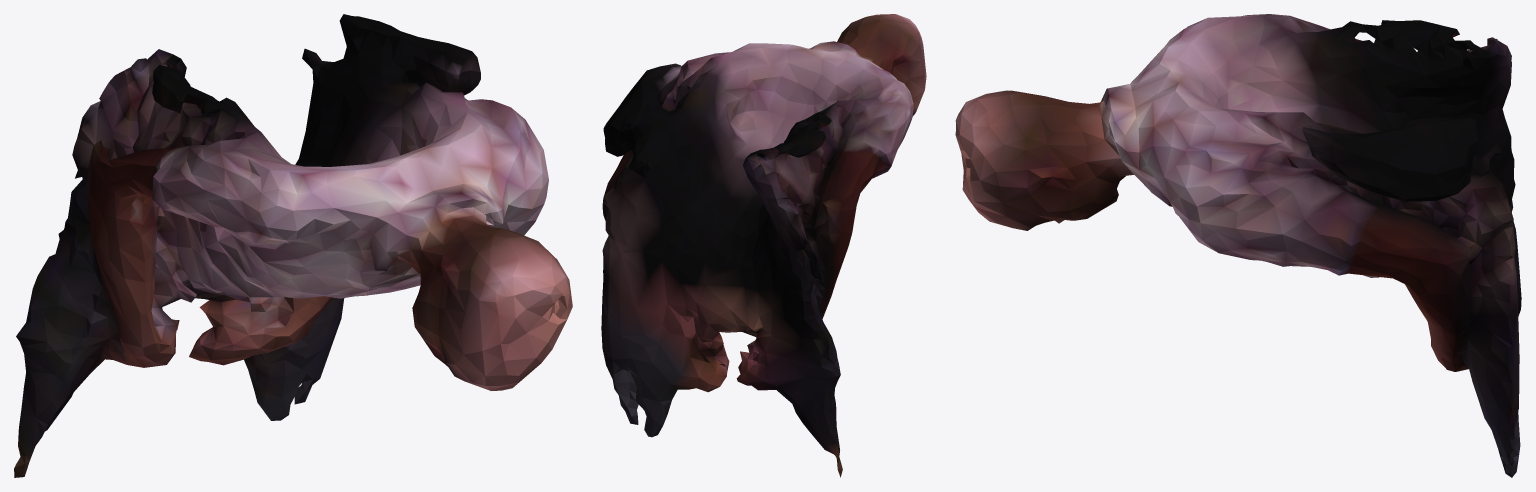
File: Idr.obj
The picture shows the model from 3 angles, left to right: view 1: azimuth 30°, elevation 25°; view 2: azimuth 150°, elevation 25°; view 3: azimuth 270°, elevation 25°; orthographic projection. The views are drawn at different scales.
Size of the model in its own units: 0.583 by 0.5988 by 0.7994.
